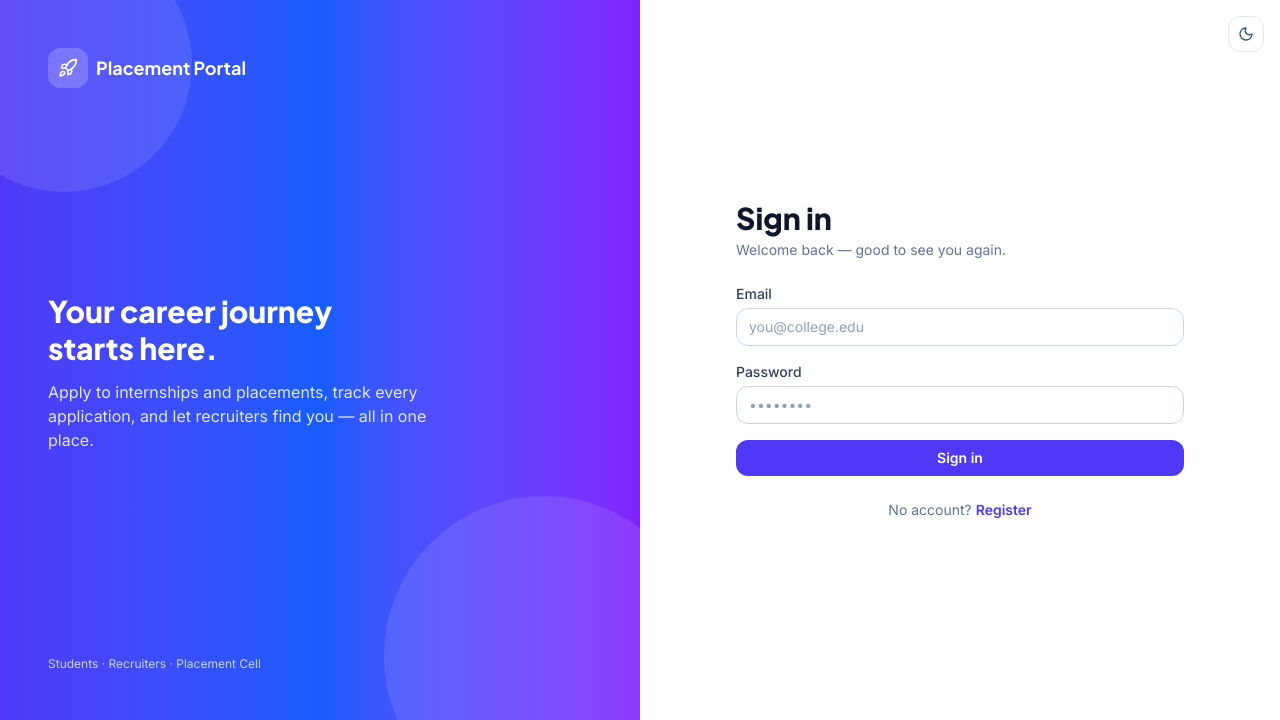
LoginPage › shows the backend error message when login fails
This screenshot has width=1280, height=720.
Type "a@test.edu" into the field labelled "Email" at (960, 327), box [736, 308, 1184, 346]
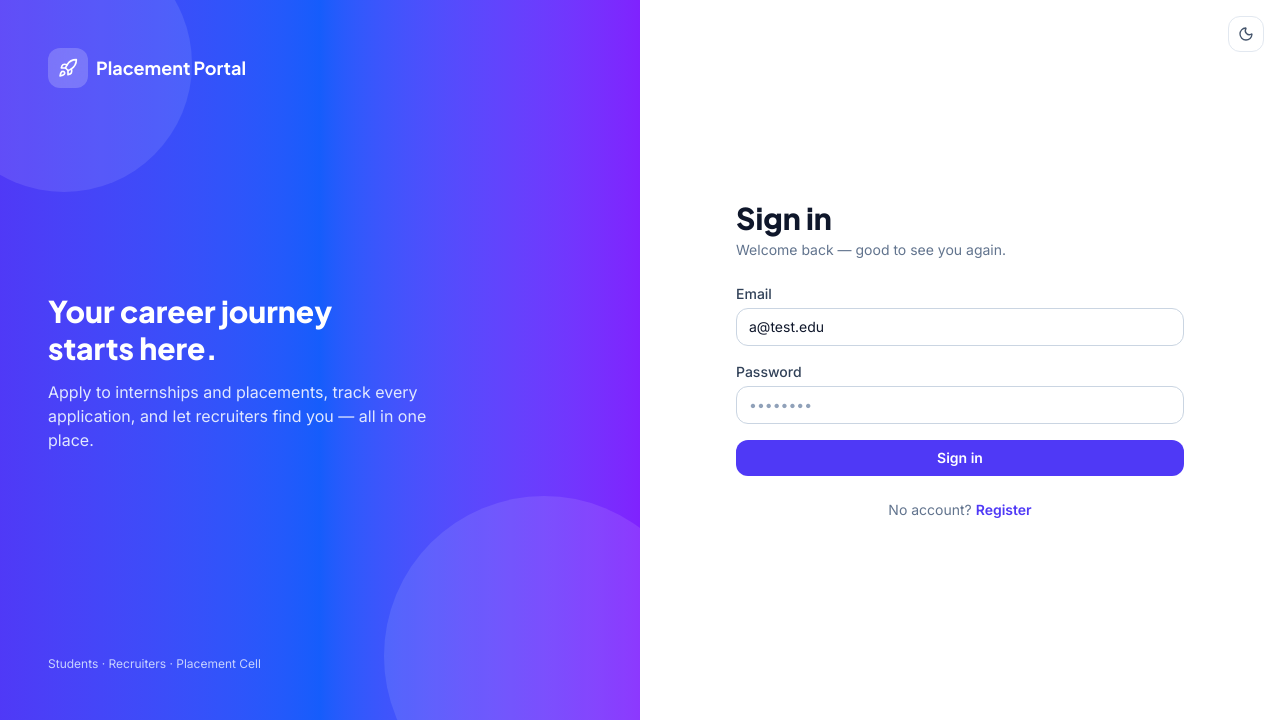
Type "wrong" into the password field labelled "Password" at (960, 405), box [736, 386, 1184, 424]
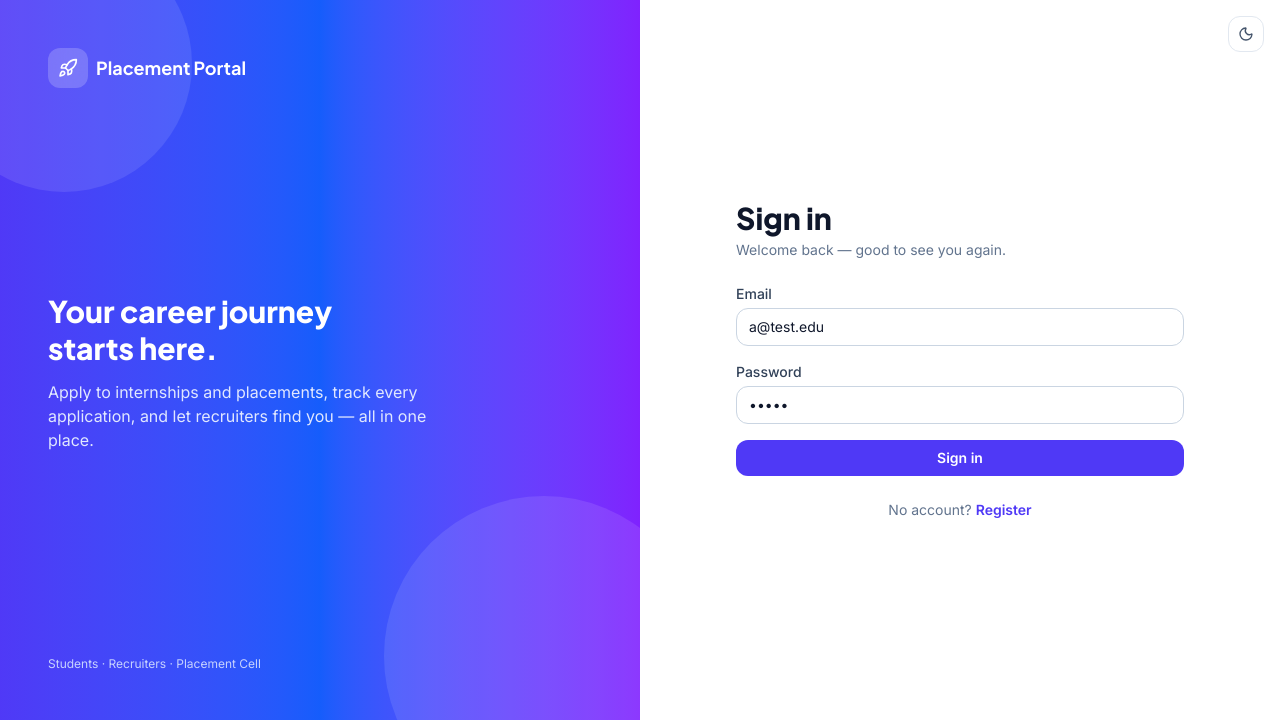
Click the button "Sign in" at (960, 458), box [736, 440, 1184, 476]
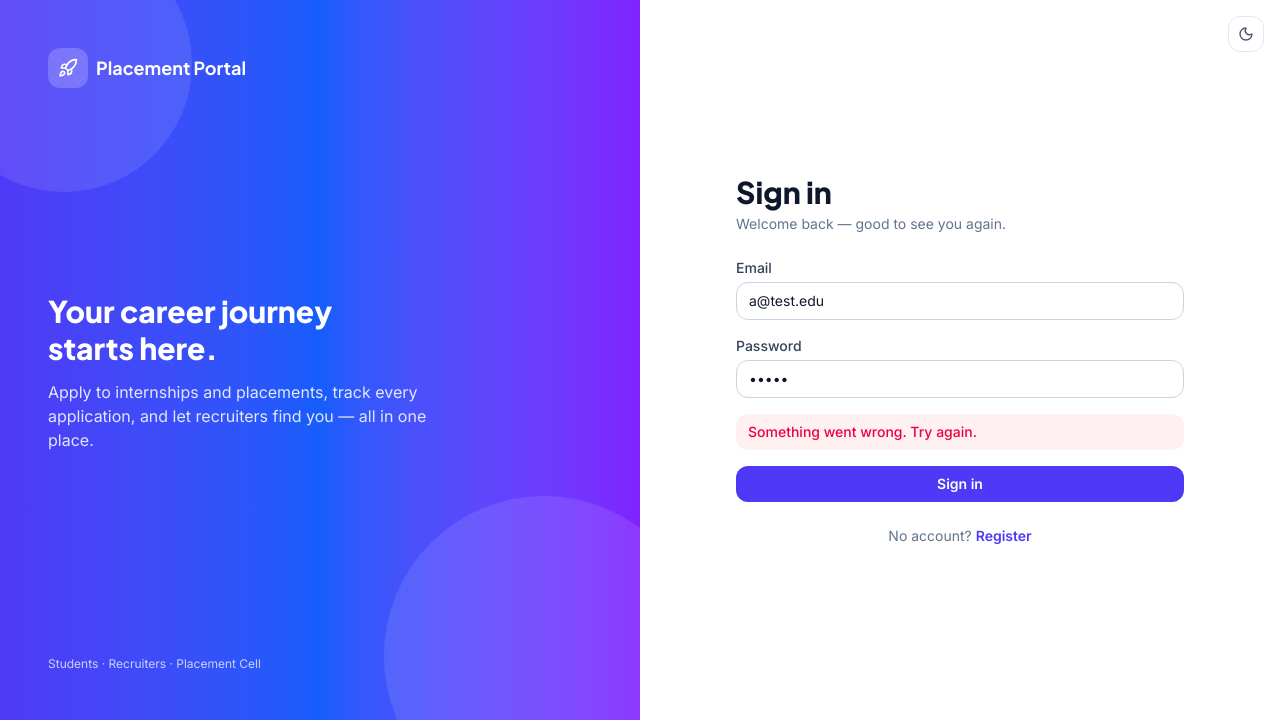
Expected: the text "Something went wrong. Try again." is shown, [736, 414, 1184, 450]
